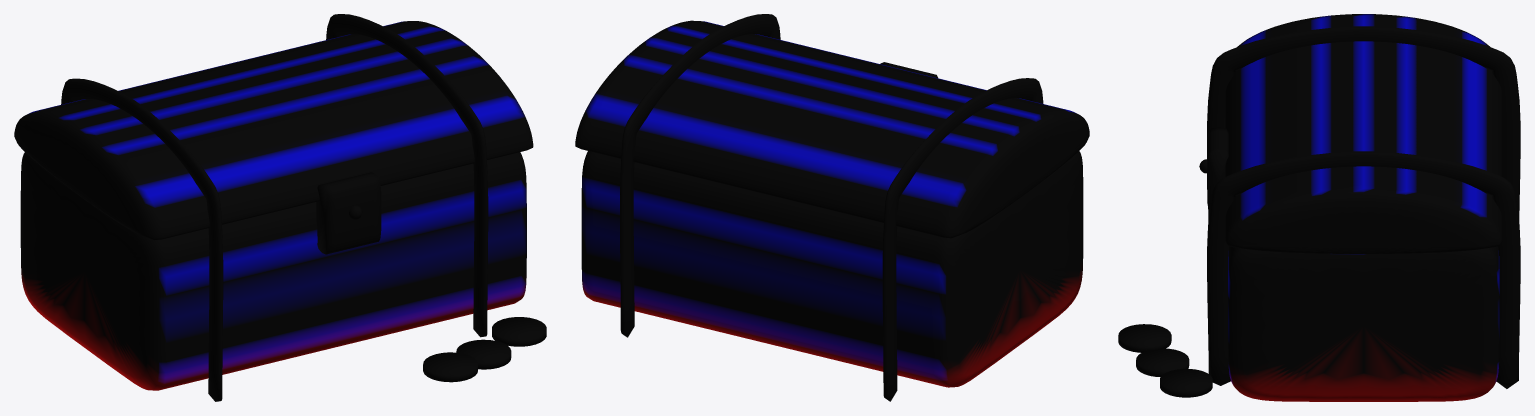
The model's file is chest.glb.
3 renders of one model, left to right at view 1: azimuth 30°, elevation 25°; view 2: azimuth 150°, elevation 25°; view 3: azimuth 270°, elevation 25°, orthographic. The views are drawn at different scales.
Parts seen in each view (by area): view 1: Chest, ChestGold; view 2: Chest, ChestGold; view 3: Chest, ChestGold.
Boxes of the visible parts, x1=… form: Chest: x1=14, y1=21, x2=533, y2=390; ChestGold: x1=61, y1=14, x2=546, y2=401; Chest: x1=575, y1=20, x2=1089, y2=387; ChestGold: x1=620, y1=14, x2=1043, y2=401; Chest: x1=1225, y1=14, x2=1502, y2=401; ChestGold: x1=1118, y1=26, x2=1520, y2=397.
Bounding box in the file's own units: 0.7358 × 0.4437 × 0.68.
